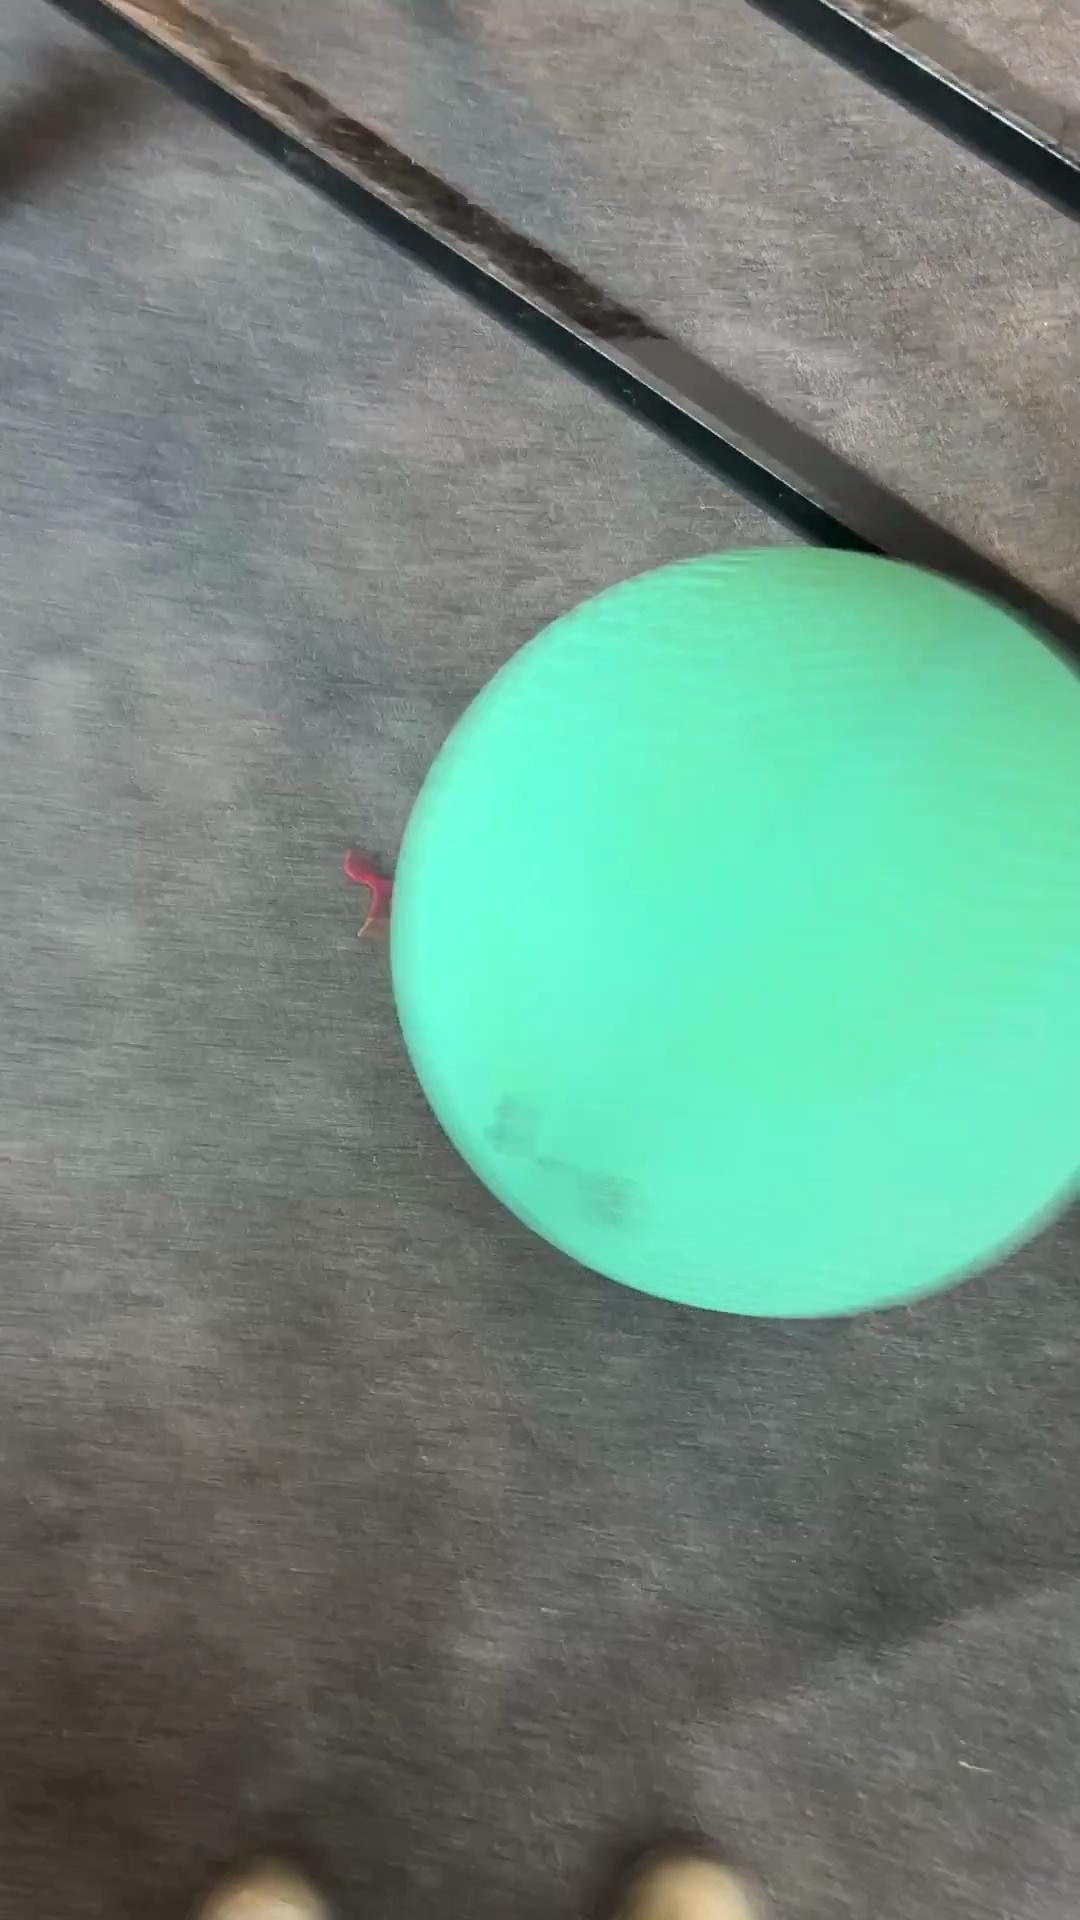ALGAE: (384, 541, 1077, 1323)
